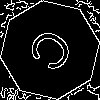C: (25, 25, 84, 82)
